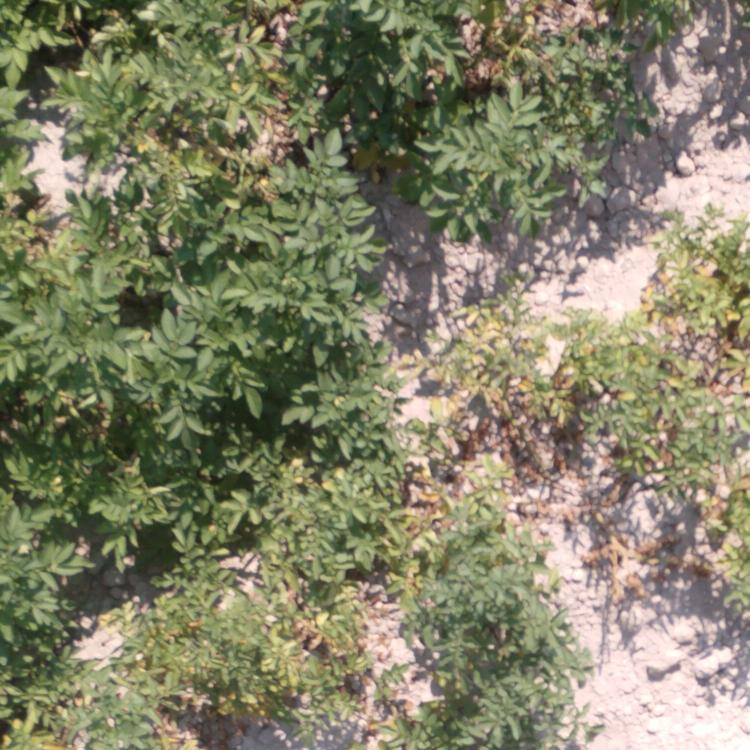healthy: (8, 158, 164, 591), (192, 161, 379, 454), (427, 100, 600, 237), (441, 543, 556, 748)
stressed: (1, 14, 346, 138), (438, 299, 625, 515), (654, 228, 748, 621), (175, 567, 341, 744), (255, 456, 428, 571), (397, 6, 627, 76), (3, 651, 167, 748)
